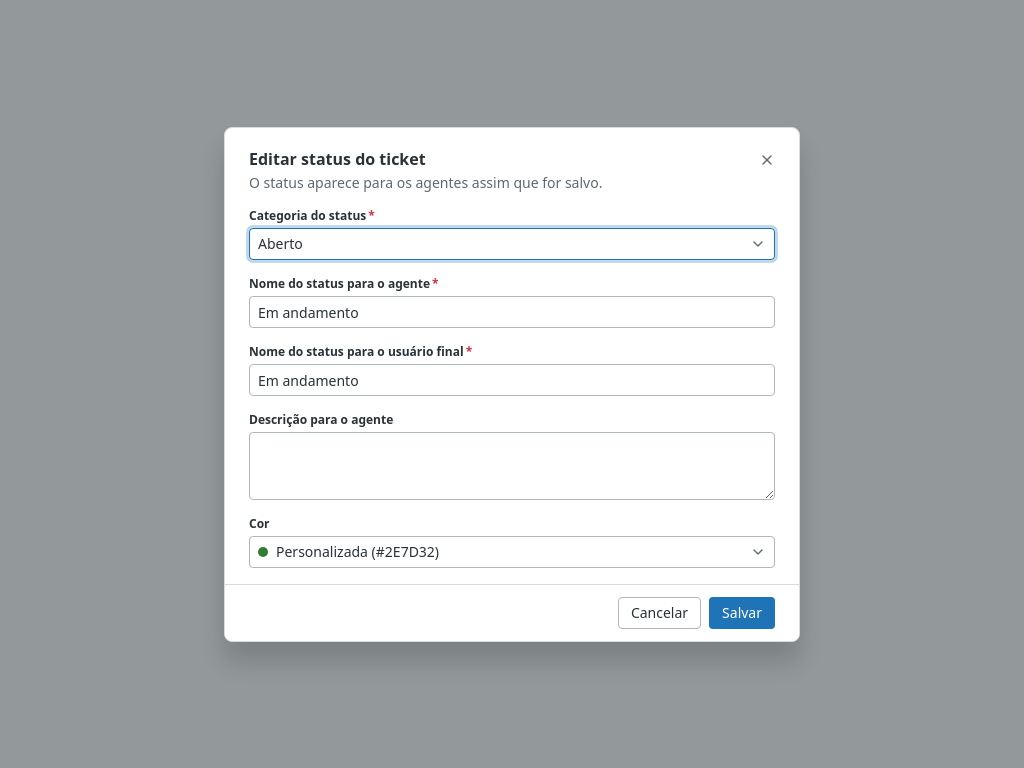
Test: StatusModal: erros do backend no formulário › erro geral (permissão) aparece em faixa, com o texto mantido
The width and height of the screenshot is (1024, 768).
Step 1. Click the button "Salvar" → [742, 612], box left=709, top=596, right=775, bottom=628
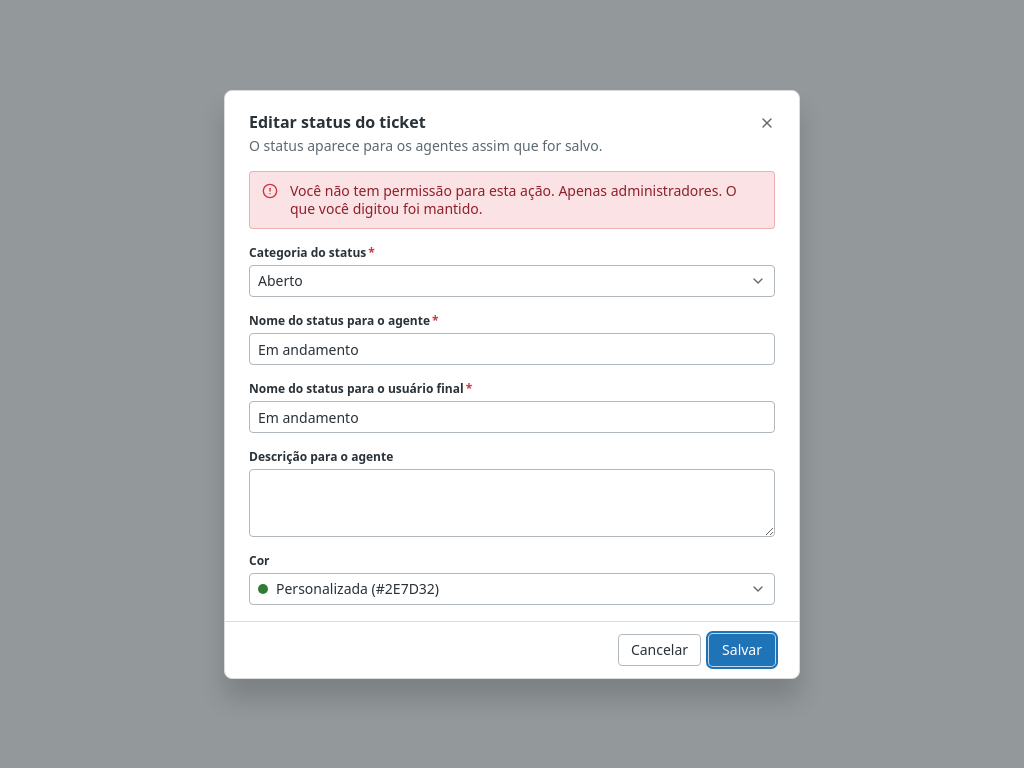
Expected: the text "Você não tem permissão para esta ação" is shown, left=290, top=180, right=722, bottom=200
Expected: the text "O que você digitou foi mantido" is shown, left=290, top=180, right=737, bottom=218
